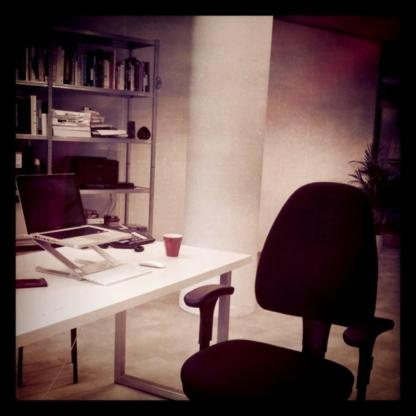board: (10, 162, 102, 252), (164, 233, 184, 258)
